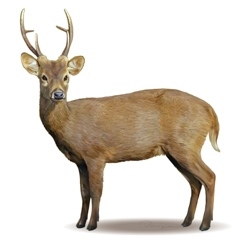Deer: (17, 5, 222, 232)
